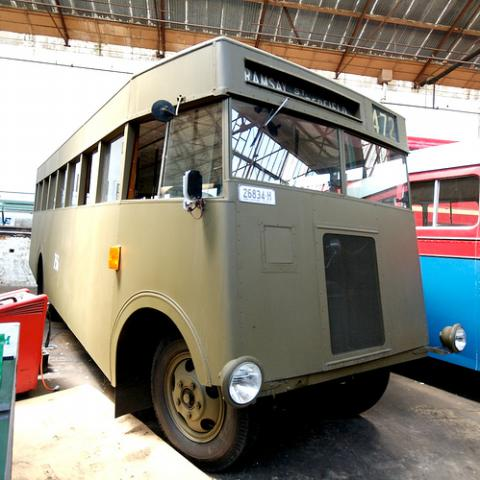bus: (23, 36, 476, 469), (416, 138, 479, 394)
